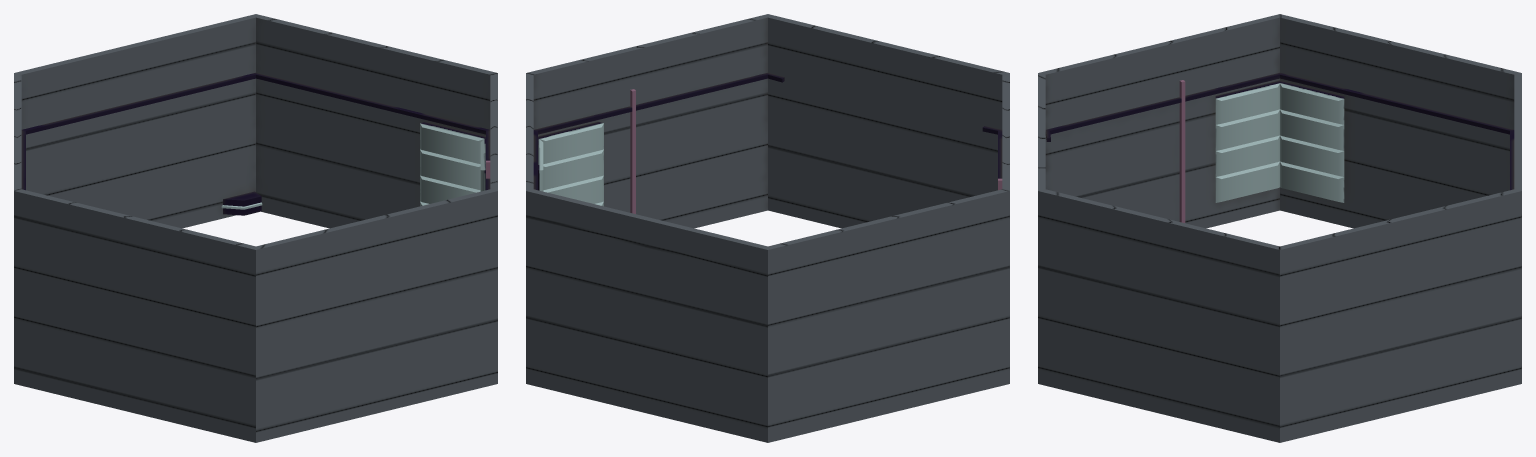
File: pipe.fbx
The picture shows the model from 3 angles, left to right: view 1: azimuth 30°, elevation 25°; view 2: azimuth 150°, elevation 25°; view 3: azimuth 270°, elevation 25°; orthographic projection.
Visible parts, largest first — view 1: pipe; view 2: pipe; view 3: pipe.
Part boxes in pixels (x1,y1,x2,y2): pipe: [14, 14, 497, 442]; pipe: [526, 14, 1009, 442]; pipe: [1038, 14, 1521, 442].
Bounding box in the file's own units: 2624 × 1000 × 2272.
